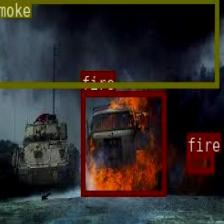fire: (80, 90, 166, 196), (186, 153, 213, 173)
smoke: (0, 0, 218, 86)
